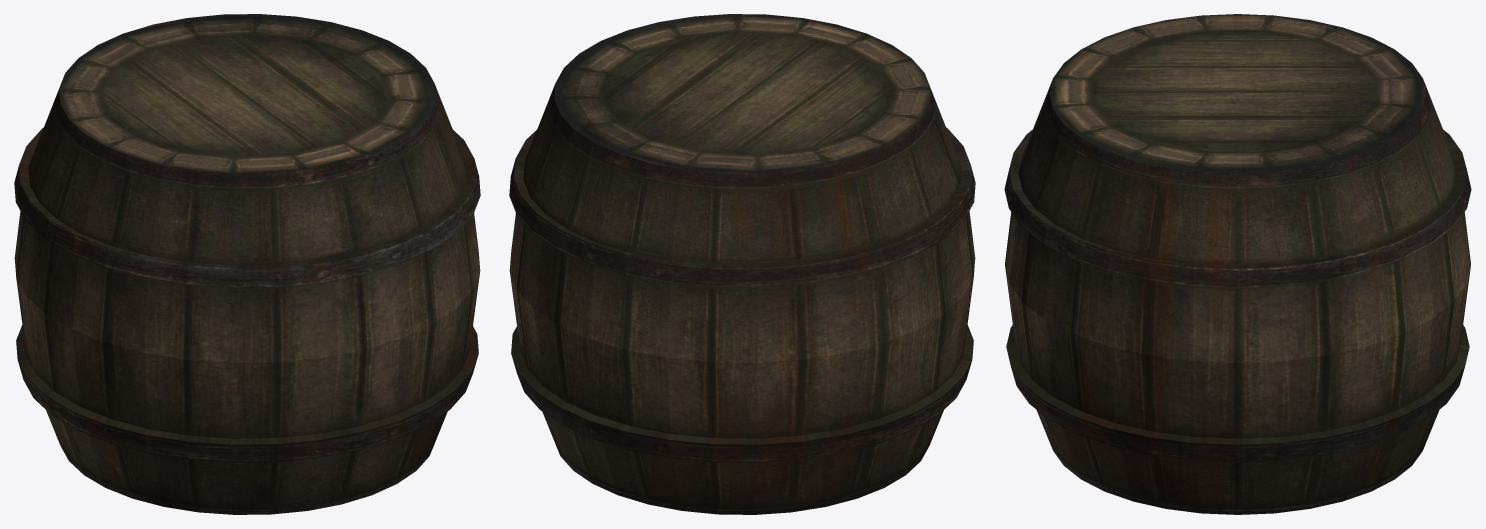
File: barrel.fbx
The picture shows the model from 3 angles, left to right: view 1: azimuth 30°, elevation 25°; view 2: azimuth 150°, elevation 25°; view 3: azimuth 270°, elevation 25°; orthographic projection.
Visible parts, largest first — view 1: Cylinder; view 2: Cylinder; view 3: Cylinder.
Part boxes in pixels (left/top/right/bottom): Cylinder: left=14, top=14, right=480, bottom=514; Cylinder: left=509, top=14, right=975, bottom=514; Cylinder: left=1004, top=14, right=1471, bottom=514.
Bounding box in the file's own units: 268 × 216 × 268.
Materials: 1 (1 with a texture image).
